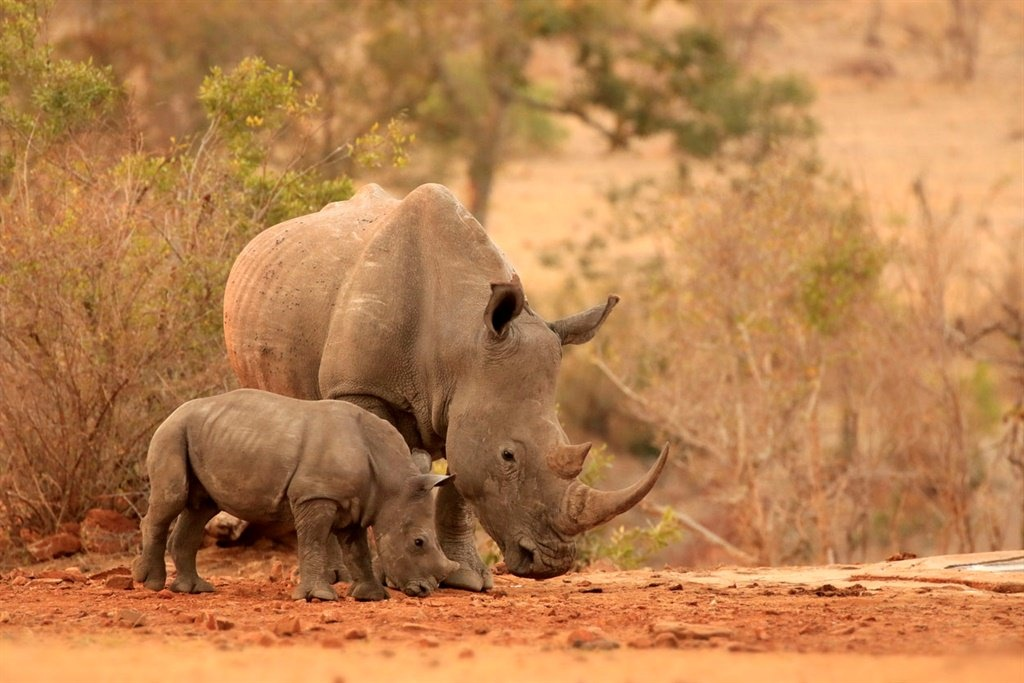rhino: (217, 182, 678, 591), (130, 381, 458, 616)
